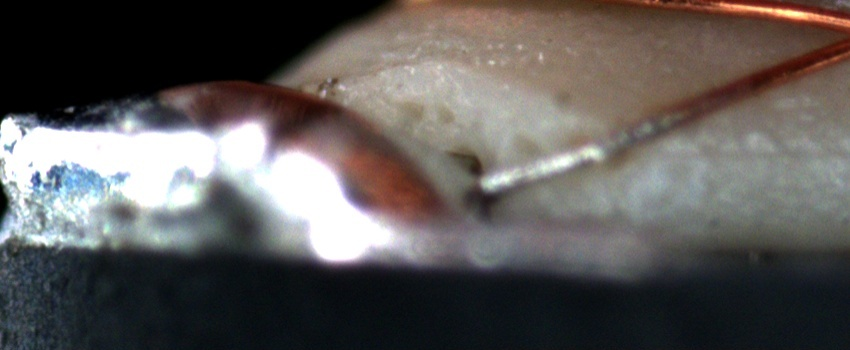DL: (626, 123, 850, 187)
TS: (479, 108, 687, 197)
